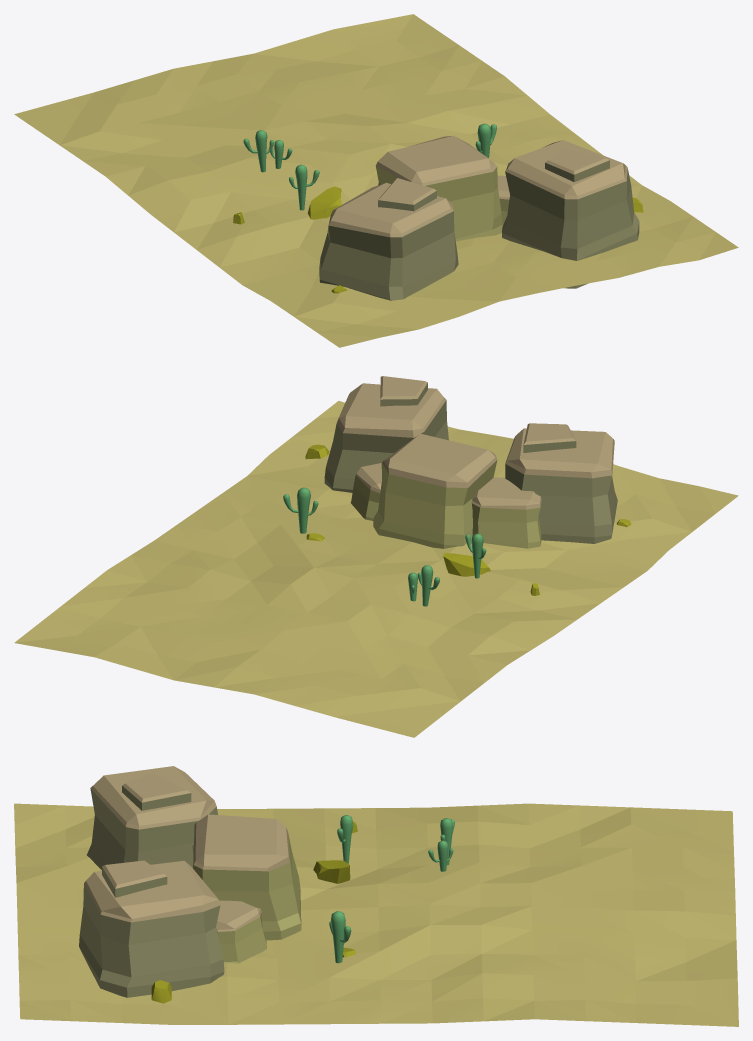
The picture shows the model from 3 angles, top to bottom: view 1: azimuth 30°, elevation 25°; view 2: azimuth 150°, elevation 25°; view 3: azimuth 270°, elevation 25°; orthographic projection. The views are drawn at different scales.
Visible parts, largest first — view 1: terrain_bg02, nui_04_bg02, nui_05_bg02, nui_01_bg02, xuong_rong_01_bg02, da_05_bg02, xuong_rong_03_bg02; view 2: terrain_bg02, nui_04_bg02, nui_01_bg02, nui_05_bg02, nui_03_bg02, nui_02_bg02, xuong_rong_01_bg02, da_05_bg02, xuong_rong_02_bg02; view 3: terrain_bg02, nui_05_bg02, nui_04_bg02, nui_01_bg02, nui_02_bg02, xuong_rong_01_bg02, da_05_bg02, xuong_rong_02_bg02, xuong_rong_03_bg02.
Part boxes in pixels (bbox=[...]): terrain_bg02: bbox=[14, 14, 738, 347]; nui_04_bg02: bbox=[319, 178, 458, 300]; nui_05_bg02: bbox=[502, 140, 639, 288]; nui_01_bg02: bbox=[375, 135, 502, 241]; xuong_rong_01_bg02: bbox=[243, 130, 292, 172]; da_05_bg02: bbox=[308, 186, 341, 219]; xuong_rong_03_bg02: bbox=[289, 164, 319, 210]; terrain_bg02: bbox=[14, 401, 738, 737]; nui_04_bg02: bbox=[505, 423, 617, 543]; nui_01_bg02: bbox=[373, 433, 497, 548]; nui_05_bg02: bbox=[324, 376, 448, 492]; nui_03_bg02: bbox=[471, 477, 541, 548]; nui_02_bg02: bbox=[350, 463, 381, 520]; xuong_rong_01_bg02: bbox=[408, 565, 439, 606]; da_05_bg02: bbox=[443, 553, 490, 576]; xuong_rong_02_bg02: bbox=[283, 487, 318, 533]; terrain_bg02: bbox=[14, 803, 738, 1026]; nui_05_bg02: bbox=[79, 860, 224, 997]; nui_04_bg02: bbox=[87, 766, 217, 869]; nui_01_bg02: bbox=[193, 814, 301, 940]; nui_02_bg02: bbox=[216, 900, 266, 963]; xuong_rong_01_bg02: bbox=[428, 818, 454, 871]; da_05_bg02: bbox=[313, 860, 350, 883]; xuong_rong_02_bg02: bbox=[329, 911, 351, 963]; xuong_rong_03_bg02: bbox=[337, 815, 353, 863].
Bounding box in the file's own units: 27.13 × 6.69 × 38.16.
